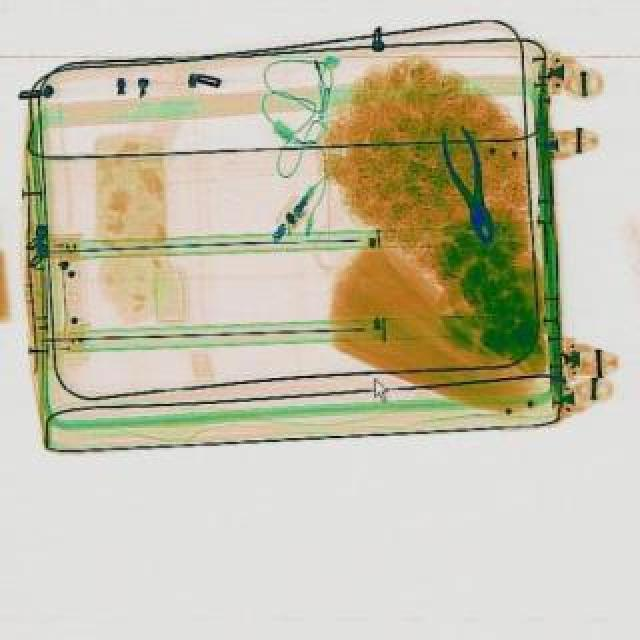wrench: (434, 122, 508, 244)
